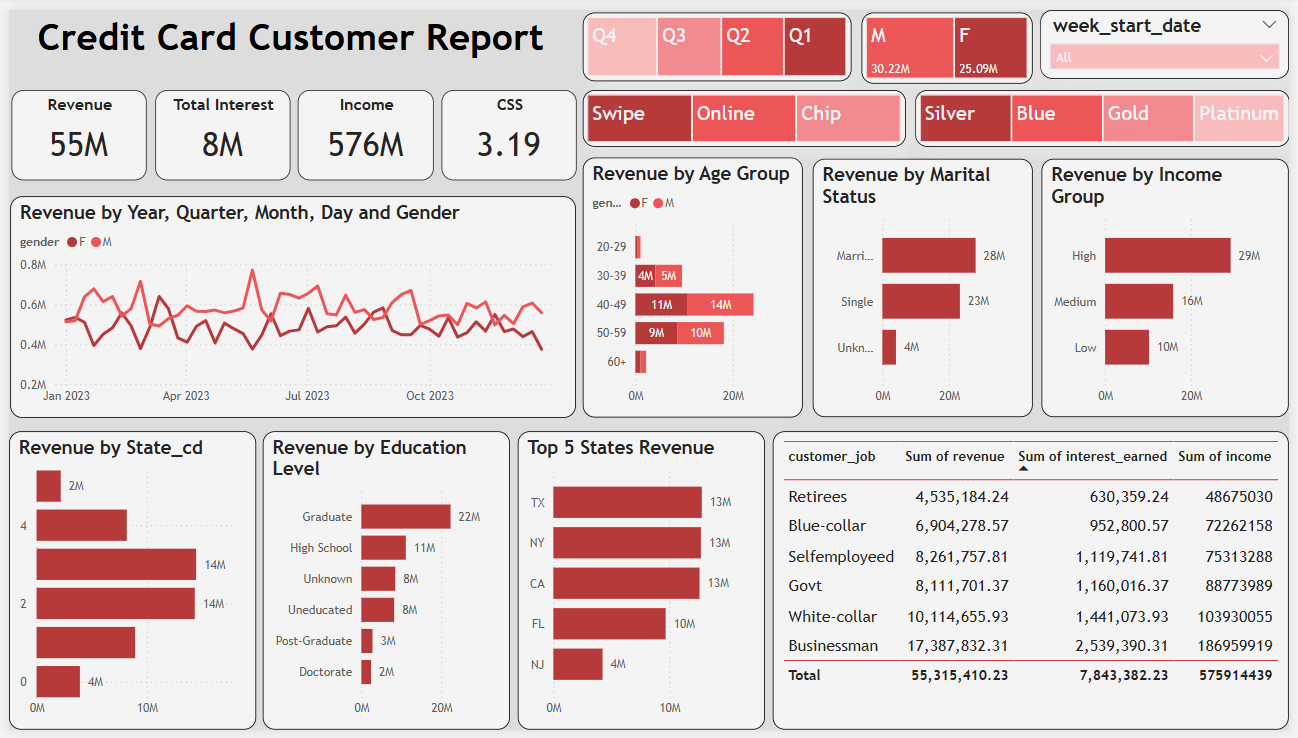

The page's visual inventory and layout, read from the dashboard file:
{"tool":"powerbi","page":{"name":"Credit Card Customer Report","canvas":[1280,720],"ordinal":6},"visuals":[{"type":"textbox","box":[0,0,563.3,58.3],"z":0},{"type":"tableEx","fields":{"Values":["public customer_details.customer_job","Sum(public credit_card_details.revenue)","Sum(public credit_card_details.interest_earned)","Sum(public customer_details.income)"]},"box":[764.3,421.4,515.7,298.6],"z":1000},{"type":"card","title":"Revenue","fields":{"Values":["Sum(public credit_card_details.revenue)"]},"box":[2.5,80,135,90],"z":2000},{"type":"card","title":"Income","fields":{"Values":["Sum(public customer_details.income)"]},"box":[288.8,80,136.2,90],"z":3000},{"type":"card","title":"CSS","fields":{"Values":["Avg(public customer_details.cust_satisfaction_score)"]},"box":[432.5,80,135,90],"z":4000},{"type":"card","title":"Total Interest","fields":{"Values":["Sum(public credit_card_details.interest_earned)"]},"box":[146.2,80,135,90],"z":5000},{"type":"slicer","fields":{"Values":["public credit_card_details.week_start_date"]},"box":[1031.2,0,248.8,68.8],"z":6000},{"type":"treemap","fields":{"Group":["public credit_card_details.qtr"],"Values":["Avg(public credit_card_details.client_num)"]},"box":[574.3,2.9,268.6,68.6],"z":7000},{"type":"treemap","fields":{"Group":["public customer_details.gender"],"Values":["Sum(public credit_card_details.revenue)"]},"box":[853,2,171,71],"z":8000},{"type":"treemap","fields":{"Values":["Avg(public customer_details.client_num)"],"Group":["public credit_card_details.card_category"]},"box":[905.7,80,374.3,57.1],"z":9000},{"type":"lineChart","title":"Revenue by Year, Quarter, Month, Day and Gender","fields":{"Y":["Sum(public credit_card_details.revenue)"],"Series":["public customer_details.gender"],"Category":["public credit_card_details.week_start_date.Variation.Date Hierarchy.Year","public credit_card_details.week_start_date.Variation.Date Hierarchy.Quarter","public credit_card_details.week_start_date.Variation.Date Hierarchy.Month","public credit_card_details.week_start_date.Variation.Date Hierarchy.Day"]},"box":[1.4,185.7,565.7,221.4],"z":10000},{"type":"barChart","title":"Revenue by Income Group","fields":{"Category":["public customer_details.income_group"],"Y":["Sum(public credit_card_details.revenue)"]},"box":[1032.9,148.6,247.1,258.6],"z":11000},{"type":"barChart","title":"Revenue by Age Group","fields":{"Y":["Sum(public credit_card_details.revenue)"],"Category":["public customer_details.age_group"],"Series":["public customer_details.gender"]},"box":[574.3,147.1,220,260],"z":12000},{"type":"barChart","title":"Revenue by Education Level","fields":{"Y":["Sum(public credit_card_details.revenue)"],"Category":["public customer_details.education_level"]},"box":[253.2,421.6,246.8,298.4],"z":13000},{"type":"barChart","title":"Top 5 States Revenue","fields":{"Y":["Sum(public credit_card_details.revenue)"],"Category":["public customer_details.state_cd"]},"box":[509.2,421.7,247.5,298.3],"z":14000},{"type":"barChart","title":"Revenue by State_cd","fields":{"Y":["Sum(public credit_card_details.revenue)"],"Category":["public customer_details.dependent_count"]},"box":[0,421.5,247,298.5],"z":15000},{"type":"barChart","title":"Revenue by Marital Status","fields":{"Y":["Sum(public credit_card_details.revenue)"],"Category":["public customer_details.marital_status"]},"box":[804.3,148.6,220,258.6],"z":16000},{"type":"treemap","fields":{"Values":["Avg(public customer_details.client_num)"],"Group":["public credit_card_details.use_chip"]},"box":[574.3,80,322.9,57.1],"z":17000}]}

Visuals, with their boxes in screenshot pixels (x1, y1, x2, y2), scaled from the page's 1280x720 canvas onto the 1298x738 screenshot:
textbox: [left=0, top=0, right=571, bottom=60]
tableEx - public customer_details.customer_job x Sum(public credit_card_details.revenue): [left=775, top=432, right=1297, bottom=737]
"Revenue" card: [left=3, top=82, right=139, bottom=174]
"Income" card: [left=293, top=82, right=431, bottom=174]
"CSS" card: [left=439, top=82, right=575, bottom=174]
"Total Interest" card: [left=148, top=82, right=285, bottom=174]
slicer - public credit_card_details.week_start_date: [left=1046, top=0, right=1297, bottom=71]
treemap - public credit_card_details.qtr x Avg(public credit_card_details.client_num): [left=582, top=3, right=855, bottom=73]
treemap - public customer_details.gender x Sum(public credit_card_details.revenue): [left=865, top=2, right=1038, bottom=75]
treemap - Avg(public customer_details.client_num) x public credit_card_details.card_category: [left=918, top=82, right=1297, bottom=141]
"Revenue by Year, Quarter, Month, Day and Gender" lineChart: [left=1, top=190, right=575, bottom=417]
"Revenue by Income Group" barChart: [left=1047, top=152, right=1297, bottom=417]
"Revenue by Age Group" barChart: [left=582, top=151, right=805, bottom=417]
"Revenue by Education Level" barChart: [left=257, top=432, right=507, bottom=737]
"Top 5 States Revenue" barChart: [left=516, top=432, right=767, bottom=737]
"Revenue by State_cd" barChart: [left=0, top=432, right=250, bottom=737]
"Revenue by Marital Status" barChart: [left=816, top=152, right=1039, bottom=417]
treemap - Avg(public customer_details.client_num) x public credit_card_details.use_chip: [left=582, top=82, right=910, bottom=141]
